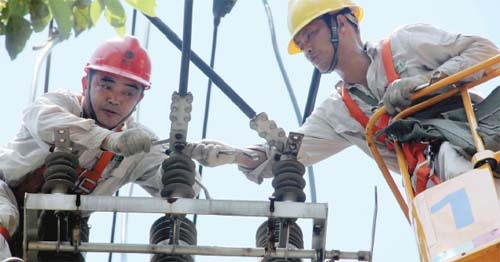red: (81, 33, 155, 126)
yellow: (285, 2, 365, 74)
